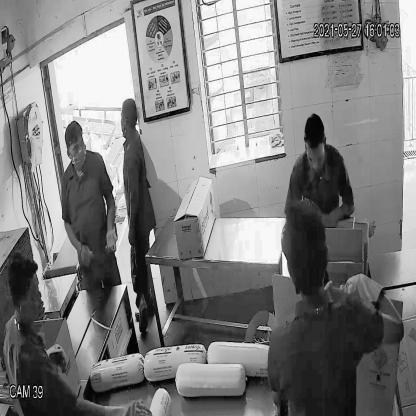no_goggles: (64, 137, 87, 156)
